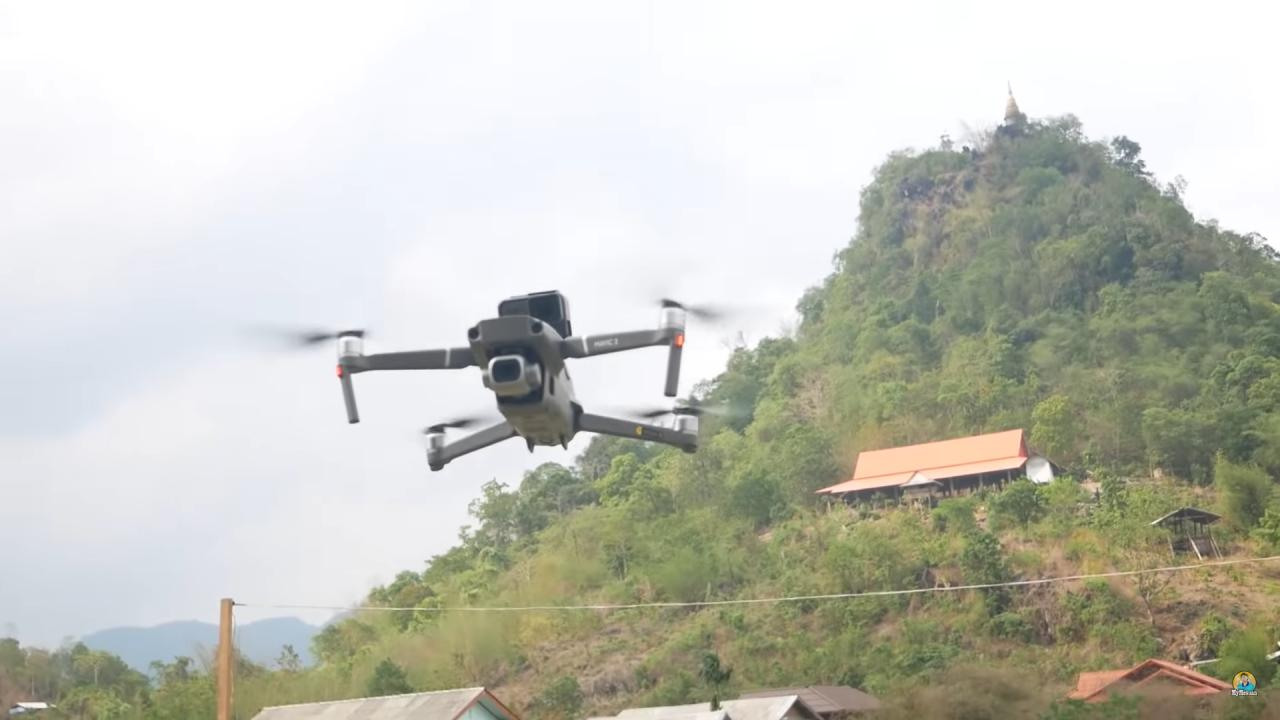Drone: (223, 251, 801, 505)
